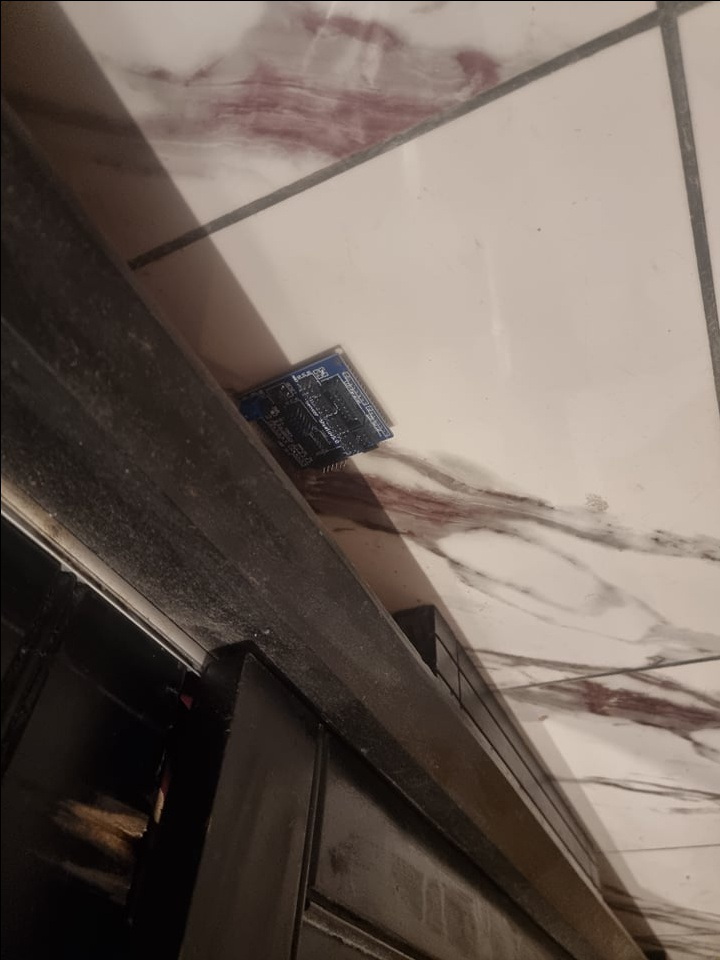5V EXPANSION: (232, 340, 396, 468)
